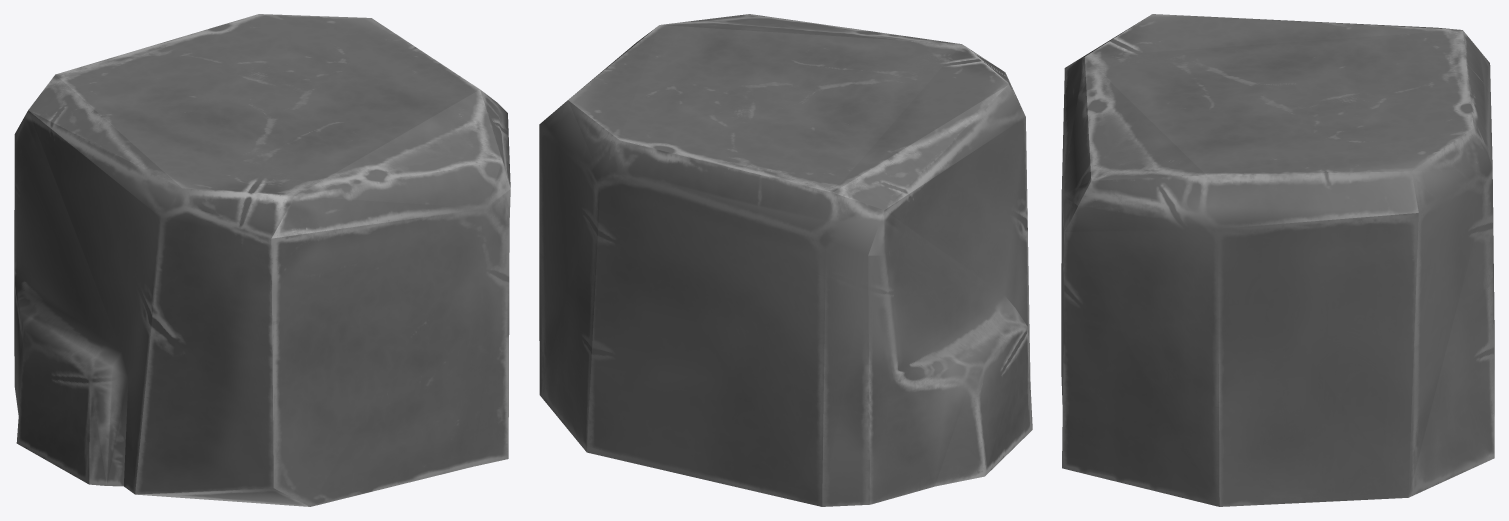
The model's file is rock_02.dae.
3 views of the same model, side by side, from view 1: azimuth 30°, elevation 25°; view 2: azimuth 150°, elevation 25°; view 3: azimuth 270°, elevation 25° (orthographic). The views are drawn at different scales.
Parts seen in each view (by area): view 1: stone6; view 2: stone6; view 3: stone6.
Part boxes in pixels (left/top/right/bottom): stone6: left=14, top=14, right=510, bottom=506; stone6: left=539, top=14, right=1032, bottom=506; stone6: left=1061, top=14, right=1494, bottom=506.
Bounding box in the file's own units: 42.22 × 29.25 × 36.08.
Materials: 1 (1 with a texture image).
